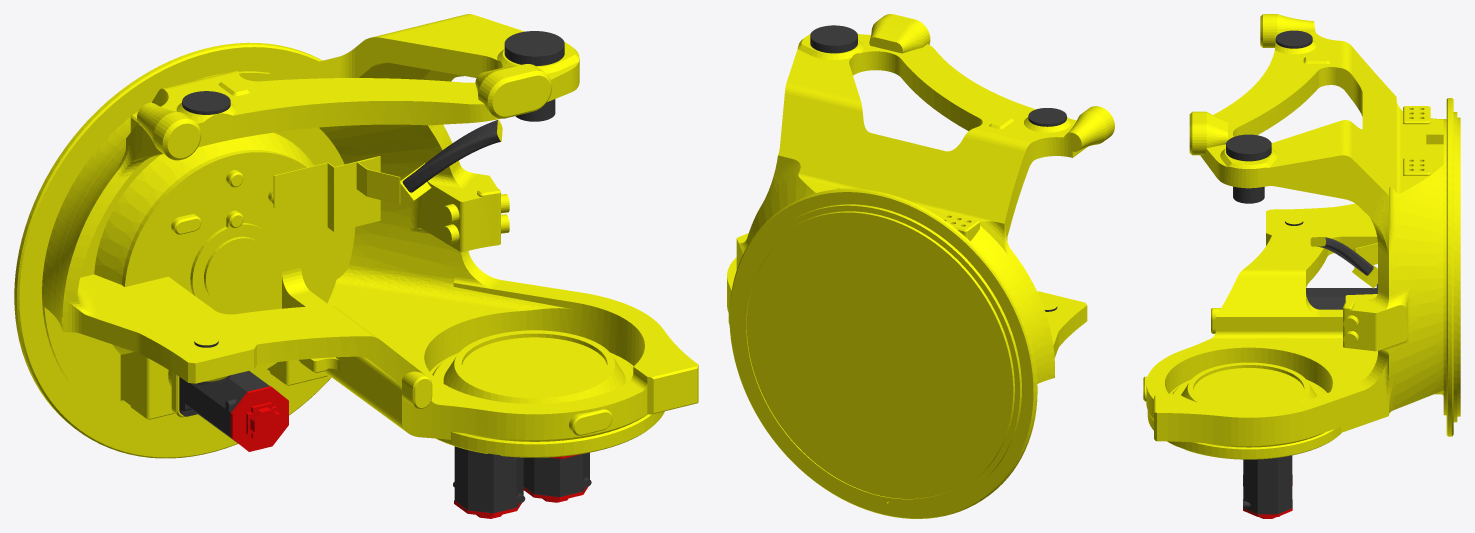
3 renders of one model, left to right at view 1: azimuth 30°, elevation 25°; view 2: azimuth 150°, elevation 25°; view 3: azimuth 270°, elevation 25°, orthographic. The views are drawn at different scales.
Parts seen in each view (by area): view 1: node; view 2: node; view 3: node.
Boxes of the visible parts, box(x1,y1,x2,y2) form: node: box(14, 14, 698, 518); node: box(727, 14, 1114, 518); node: box(1143, 14, 1460, 518).
Size of the model in its own units: 1554 by 1413 by 1113.
